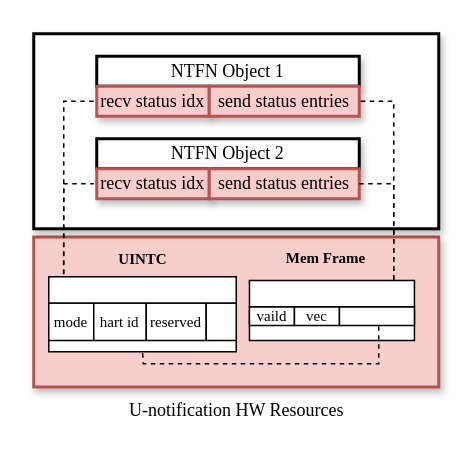
This 474x458 diagram has some shape labels left out. Each missing label, with the centre of its shape:
"irq" goes at pixel 220 321.
"Receiver Status Table" goes at pixel 141 289.
"recv index" goes at pixel 376 315.
"Sender Status Table" goes at pixel 331 293.
